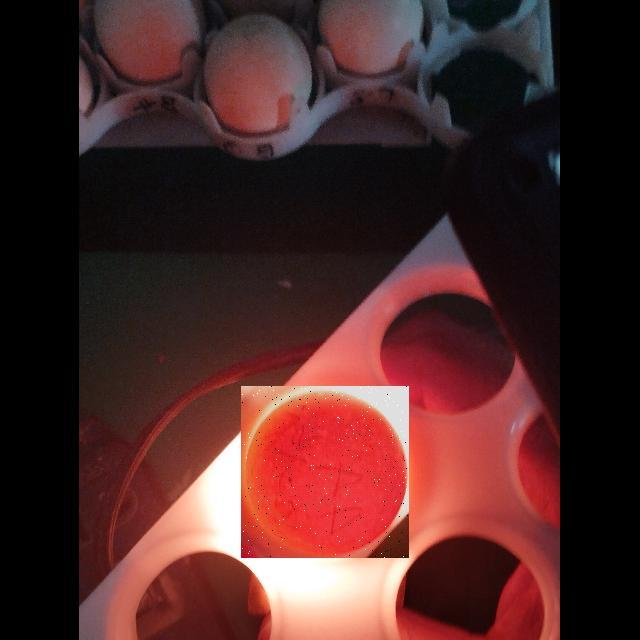Infertile: (241, 386, 409, 558)
